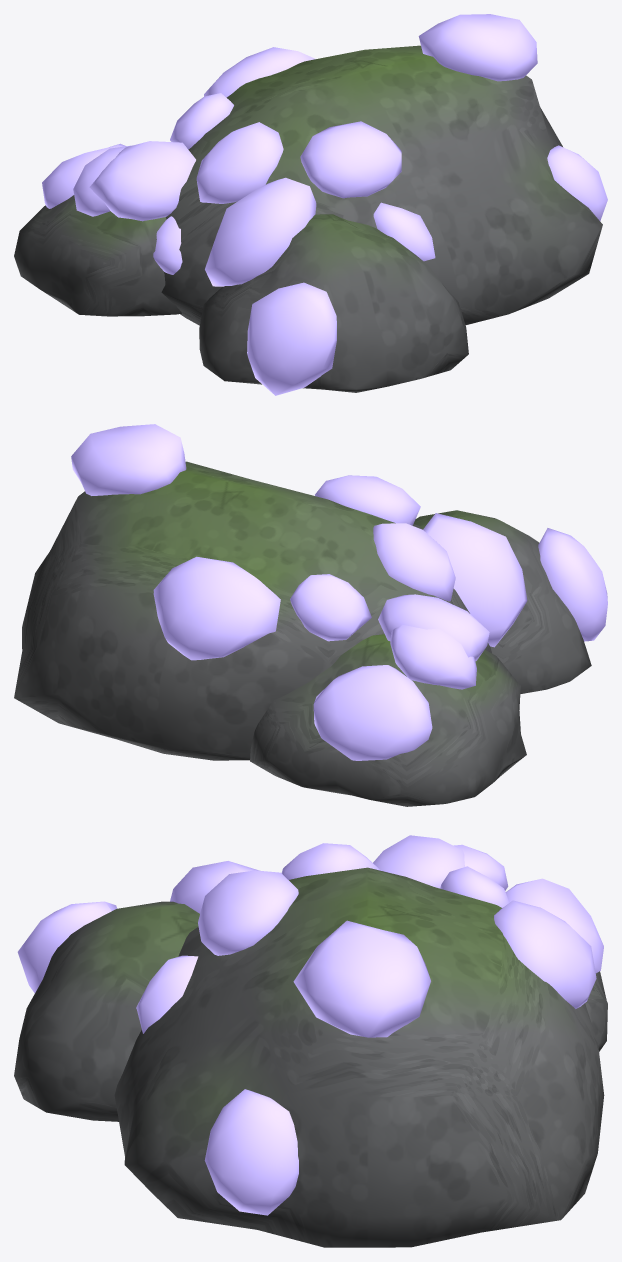
The model's file is ore_iridium_cluster.glb.
The picture shows the model from 3 angles, top to bottom: view 1: azimuth 30°, elevation 25°; view 2: azimuth 150°, elevation 25°; view 3: azimuth 270°, elevation 25°; orthographic projection. The views are drawn at different scales.
Visible parts, largest first — view 1: ore_iridium_stone, ore_iridium; view 2: ore_iridium_stone, ore_iridium; view 3: ore_iridium_stone, ore_iridium.
Boxes of the visible parts, x1,y1,x2,y2 form: ore_iridium_stone: [14, 45, 602, 392]; ore_iridium: [42, 14, 607, 395]; ore_iridium_stone: [14, 461, 591, 806]; ore_iridium: [71, 424, 607, 760]; ore_iridium_stone: [14, 867, 607, 1247]; ore_iridium: [17, 835, 603, 1215].
Size of the model in its own units: 1.92 by 0.8487 by 1.67.
2 materials, 1 textured.
